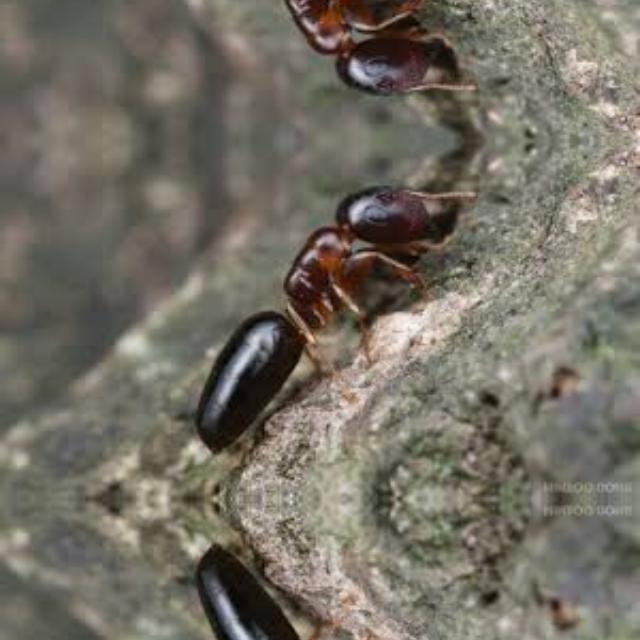Colobopsis: (150, 153, 498, 465), (150, 0, 498, 126), (150, 530, 498, 640)
